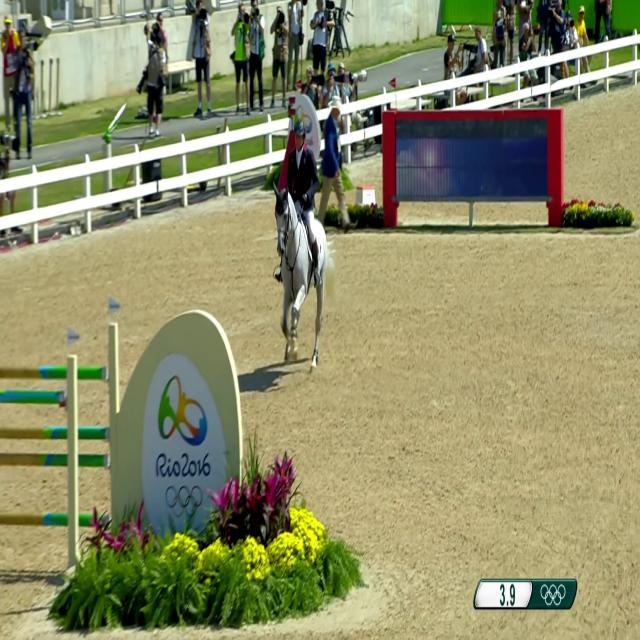Horse Running: (268, 173, 351, 373)
